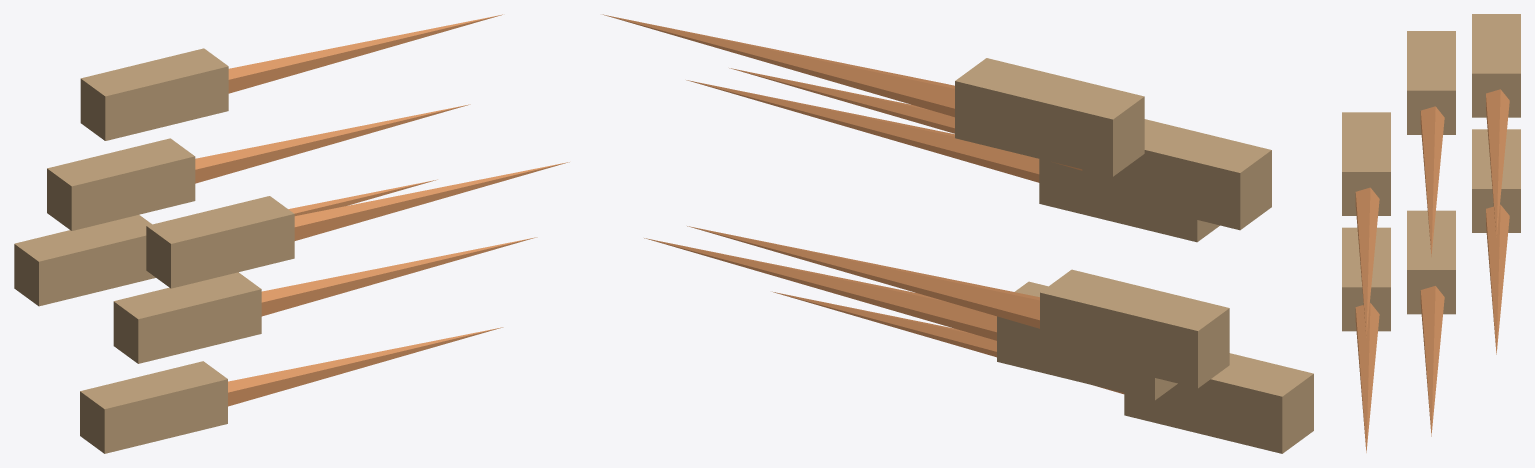
File: item_080_copper_awl_l.glb
3 renders of one model, left to right at view 1: azimuth 30°, elevation 25°; view 2: azimuth 150°, elevation 25°; view 3: azimuth 270°, elevation 25°, orthographic. The views are drawn at different scales.
Visible parts, largest first — view 1: item_080_copper_awl_l; view 2: item_080_copper_awl_l; view 3: item_080_copper_awl_l.
Part boxes in pixels (x1=…): item_080_copper_awl_l: x1=14, y1=14, x2=569, y2=453; item_080_copper_awl_l: x1=602, y1=14, x2=1313, y2=453; item_080_copper_awl_l: x1=1342, y1=14, x2=1520, y2=452.
Size of the model in its own units: 0.505 by 0.295 by 0.165.
